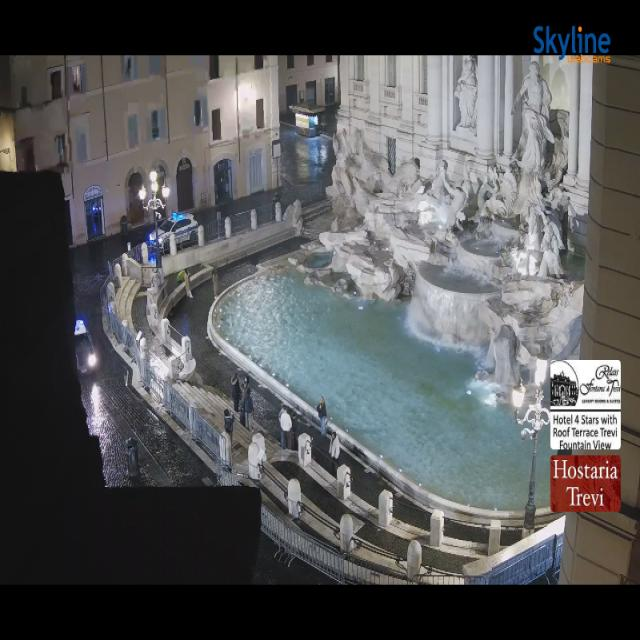person: (280, 406, 291, 449), (240, 375, 249, 425), (329, 431, 339, 474), (316, 397, 327, 436), (244, 388, 253, 431), (224, 409, 234, 447), (232, 373, 240, 412), (184, 270, 192, 297), (212, 269, 219, 298)
